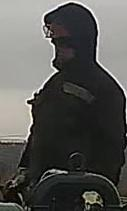gloves: (3, 161, 32, 200)
helmet: (41, 19, 76, 41)
vest: (34, 68, 126, 208)
